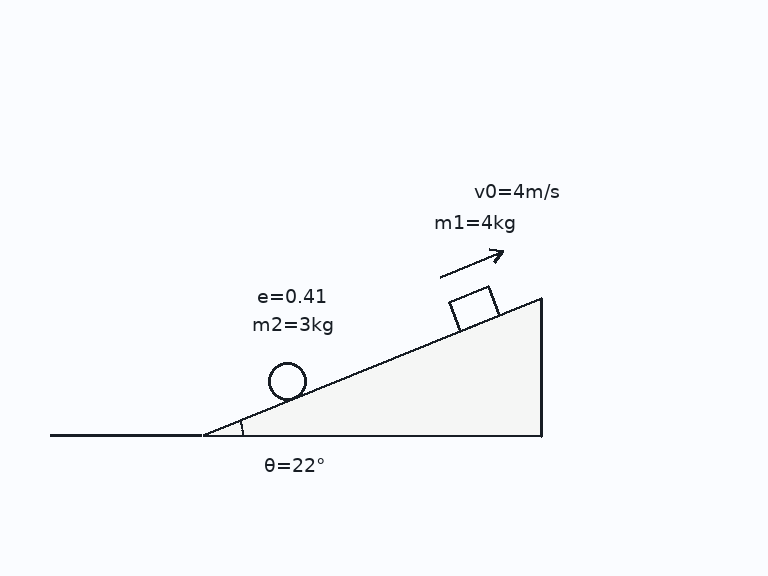ball: (266, 360, 308, 402)
block: (447, 285, 501, 333)
ramp: (201, 297, 542, 437)
